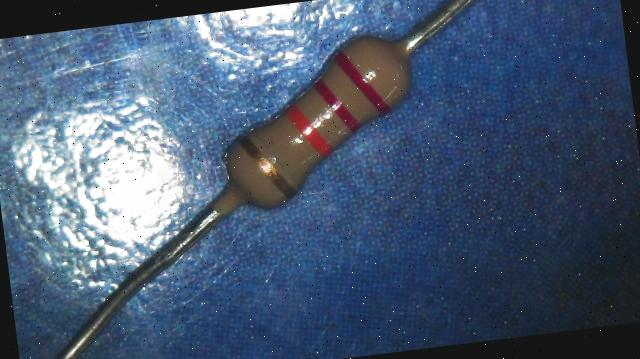gold: (238, 130, 296, 201)
orange: (285, 99, 333, 160)
red: (332, 45, 389, 118), (316, 78, 360, 127)
resistor: (190, 6, 449, 241)
